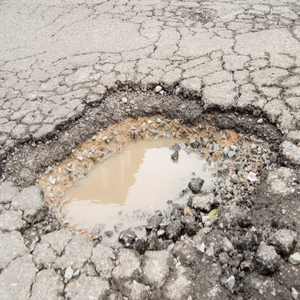pothole: (16, 77, 289, 267)
